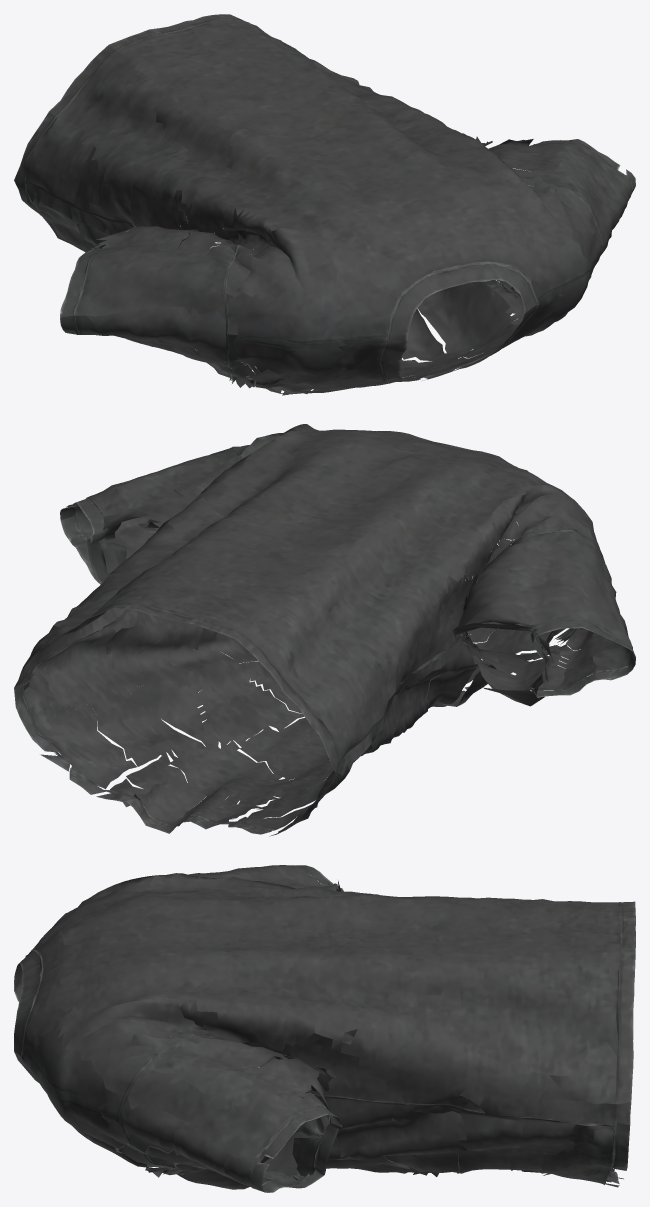
File: adult-base-01.glb
3 views of the same model, one above another, from view 1: azimuth 30°, elevation 25°; view 2: azimuth 150°, elevation 25°; view 3: azimuth 270°, elevation 25° (orthographic). The views are drawn at different scales.
Visible parts, largest first — view 1: geometry_0; view 2: geometry_0; view 3: geometry_0.
Boxes of the visible parts, x1,y1,x2,y2 form: geometry_0: (14, 14, 635, 395); geometry_0: (14, 424, 635, 836); geometry_0: (14, 865, 635, 1192).
Size of the model in its own units: 0.0083 by 0.00315 by 0.0074.
Materials: 1 (1 with a texture image).
